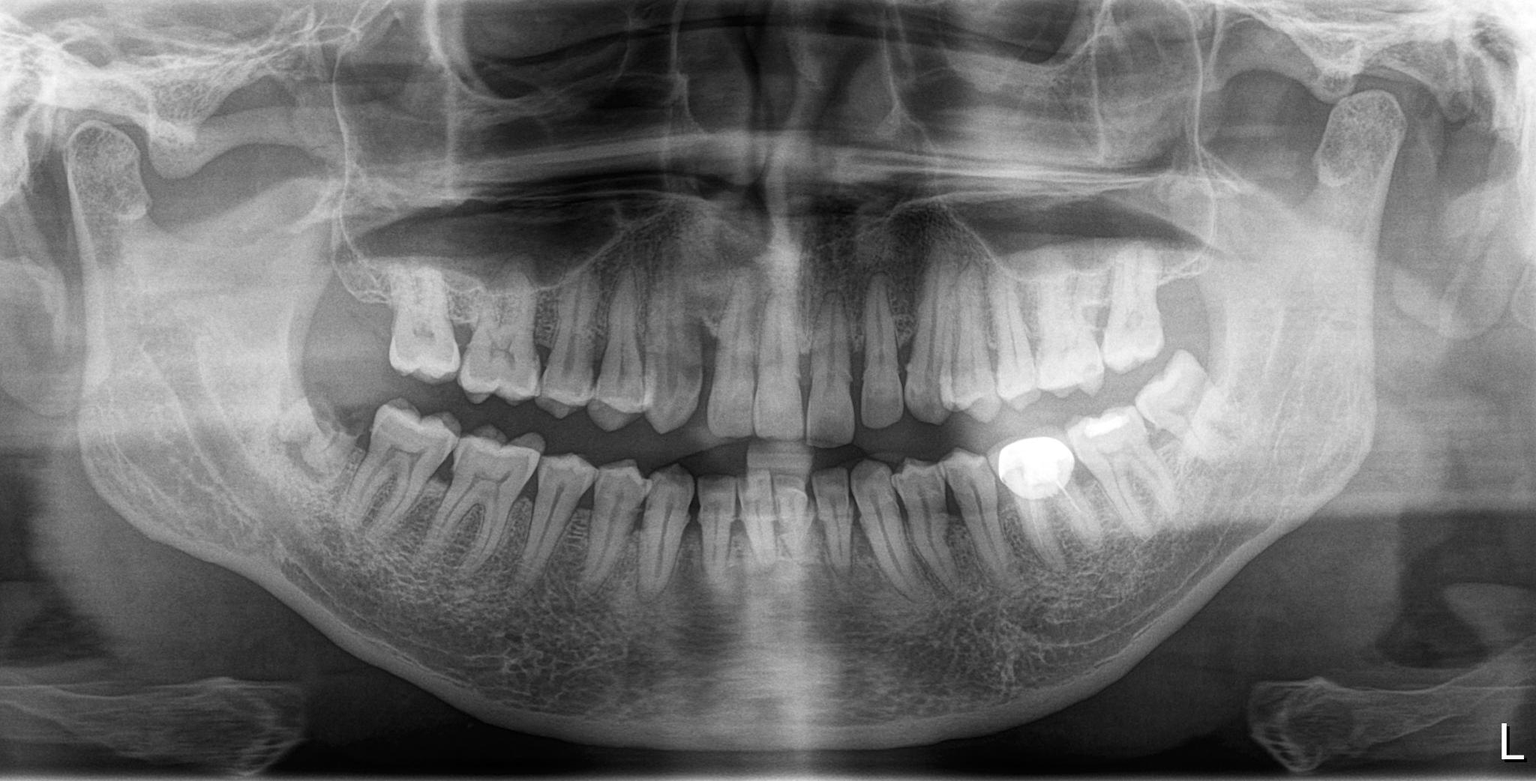Endodontically Treated Tooth: (988, 437, 1088, 565)
Impacted Third Molar: (266, 390, 362, 494)
Missing Tooth: (1159, 274, 1222, 373), (349, 272, 395, 373), (311, 266, 347, 363)
